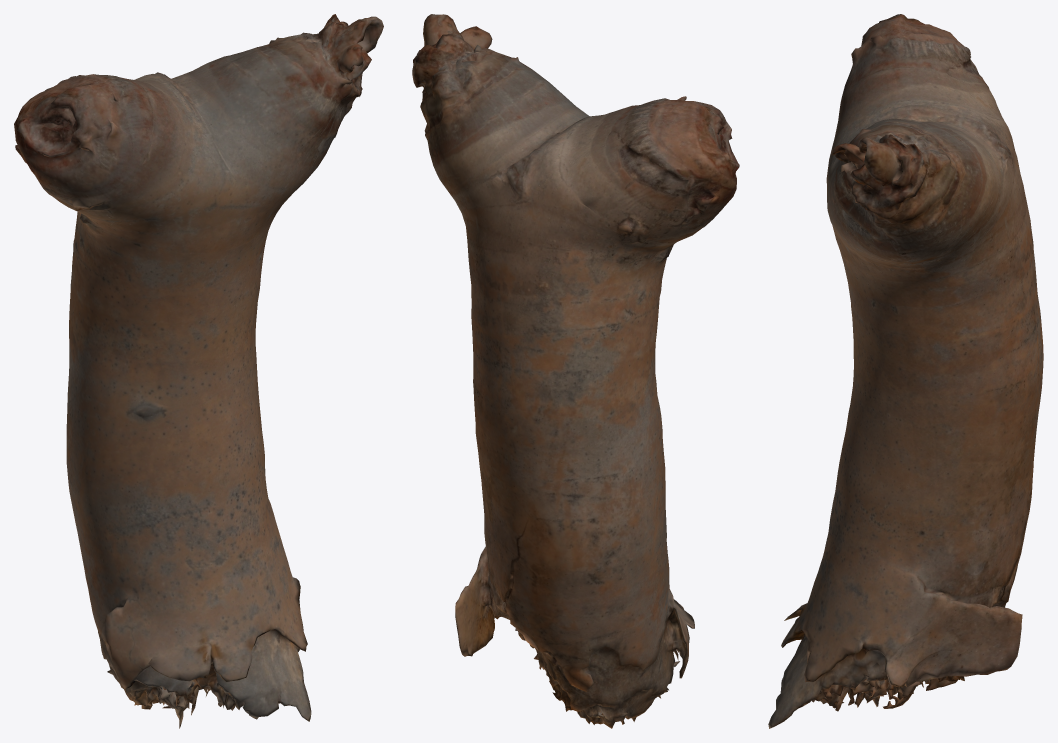
The model's file is dead_quiver_branch_02_1k.gltf.
The picture shows the model from 3 angles, left to right: view 1: azimuth 30°, elevation 25°; view 2: azimuth 150°, elevation 25°; view 3: azimuth 270°, elevation 25°; orthographic projection.
Visible parts, largest first — view 1: dead_quiver_branch_02; view 2: dead_quiver_branch_02; view 3: dead_quiver_branch_02.
Part boxes in pixels (x1,y1,x2,y2): dead_quiver_branch_02: [14, 14, 383, 728]; dead_quiver_branch_02: [412, 14, 739, 728]; dead_quiver_branch_02: [768, 14, 1043, 728].
Bounding box in the file's own units: 0.2873 × 0.5264 × 0.201.
1 material, 1 textured.
